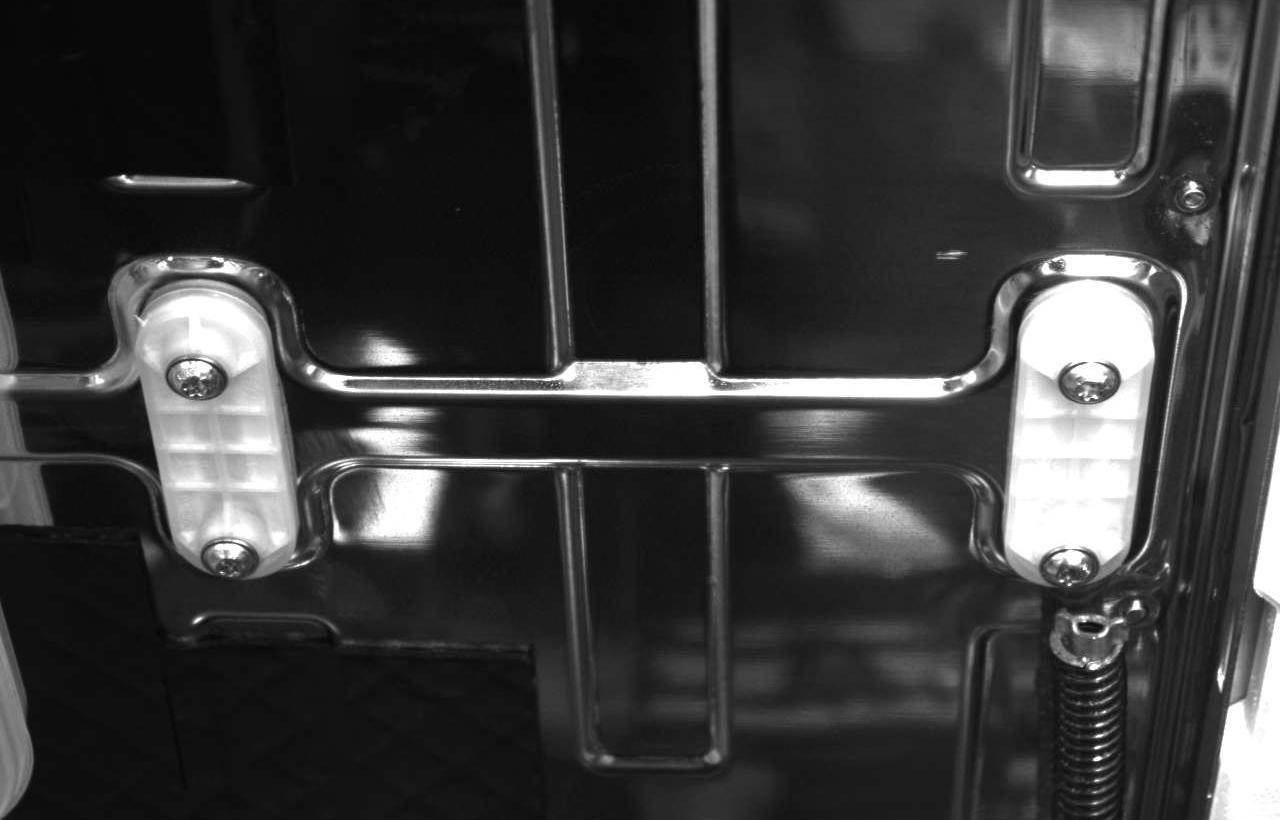vida-ok: (163, 338, 234, 405), (1057, 351, 1124, 418), (1034, 538, 1100, 597), (197, 524, 263, 582)
